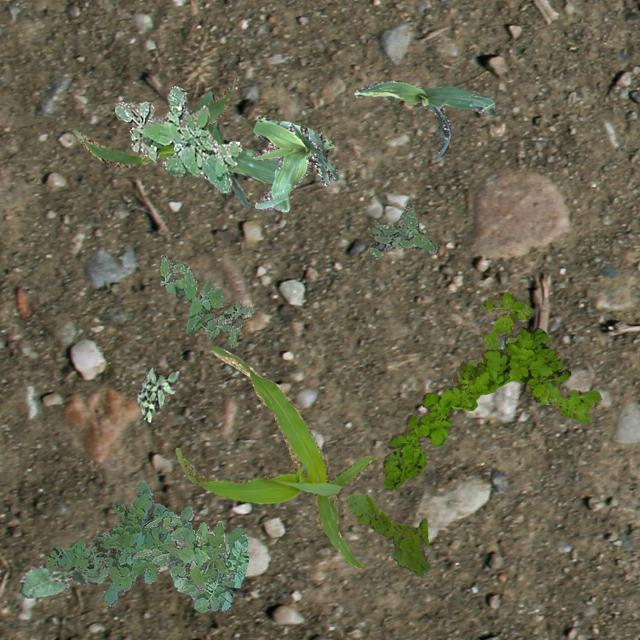crop: (175, 344, 371, 568), (74, 76, 236, 166), (354, 78, 494, 156), (192, 90, 278, 208), (252, 116, 338, 210), (18, 544, 108, 596)
weed: (382, 326, 570, 488), (44, 481, 248, 612), (452, 292, 600, 422), (114, 85, 240, 192), (158, 252, 252, 346), (346, 492, 428, 574), (128, 514, 204, 590), (368, 202, 436, 258), (136, 366, 180, 420), (496, 336, 504, 350)
